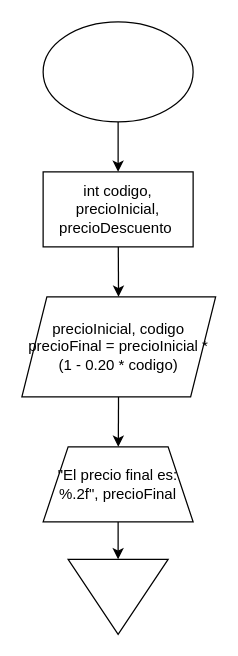
Image size: 238x656. Some labels were removed from this diagram. The shapes that lost their labels are listed below. From the top down, each one's centre as x and y in pixels, then its label:
the point at 117,71: Farmacia
the point at 117,596: fin
